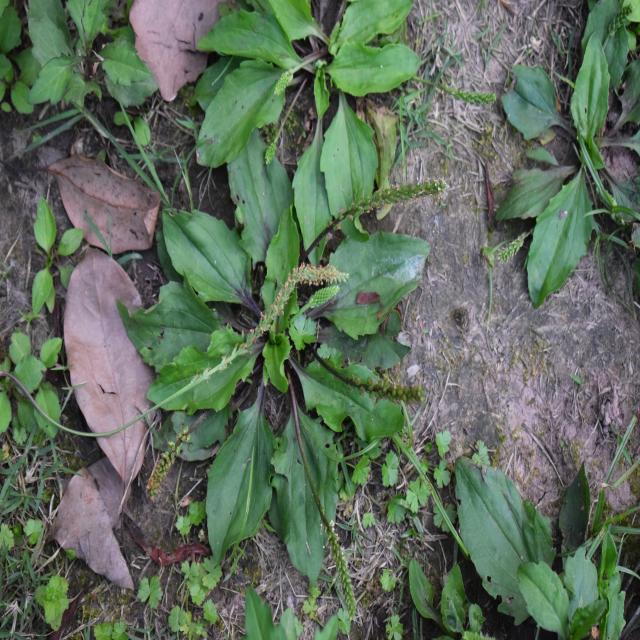plantain: (132, 134, 411, 543)
